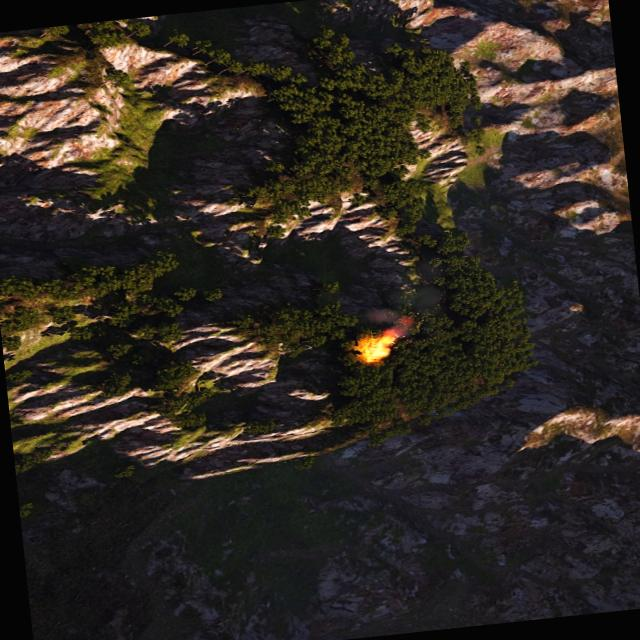fire: (358, 333, 398, 363)
smoke: (369, 280, 445, 337)
